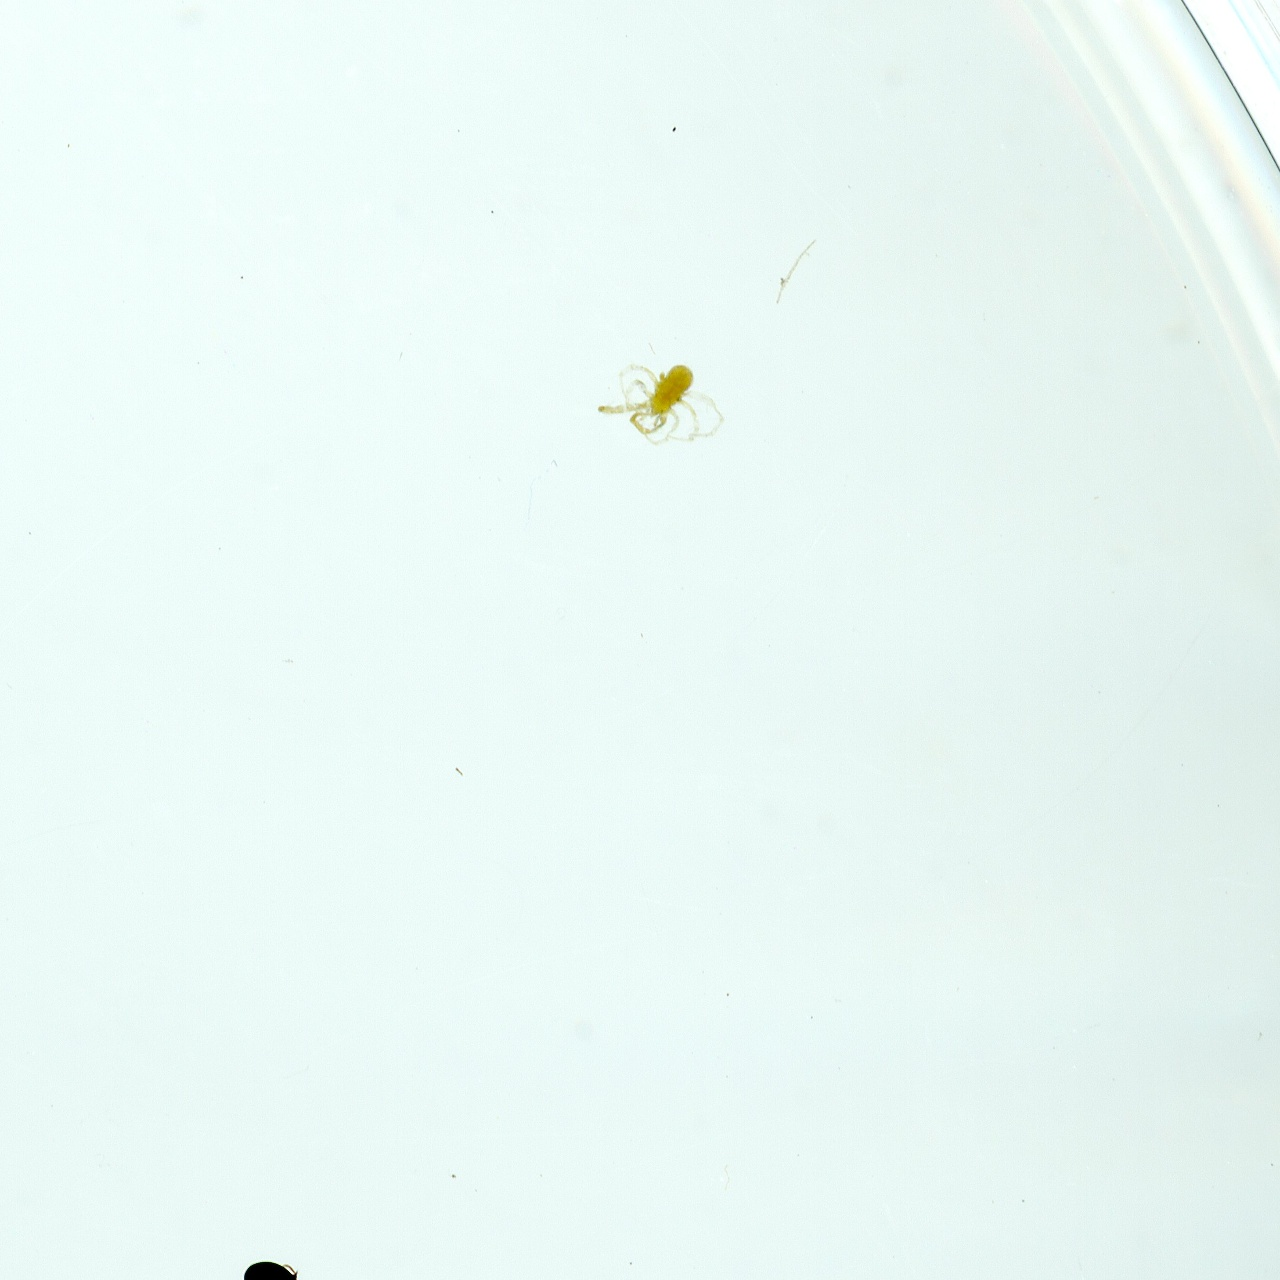arthropod: (597, 348, 729, 449), (223, 1250, 309, 1280)
